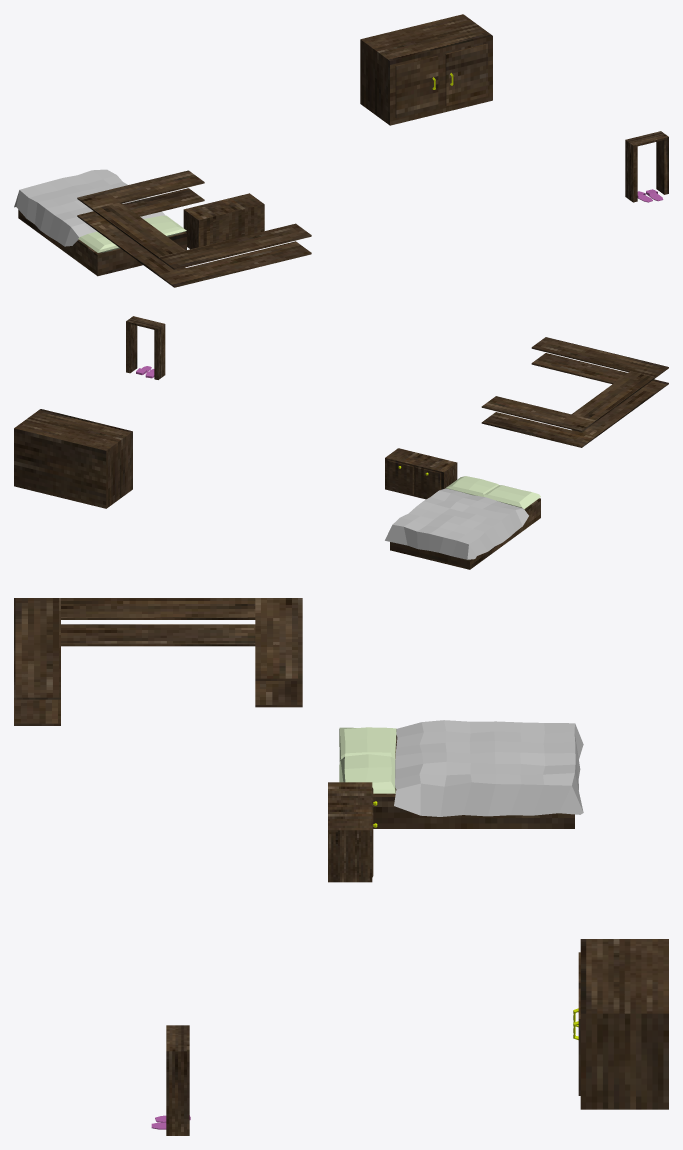
Rendered from Redoned_furniture (2).fbx.
3 renders of one model, top to bottom at view 1: azimuth 30°, elevation 25°; view 2: azimuth 150°, elevation 25°; view 3: azimuth 270°, elevation 25°, orthographic. The views are drawn at different scales.
Visible parts, largest first — view 1: Tumba, Cube.014, Plane.001, Cube, Cube.023, Cube.005, Cube.012; view 2: Tumba, Cube.014, Plane.001, Cube, Cube.023, Cube.012, Cube.005; view 3: Cube.014, Plane.001, Tumba, Cube, Cube.012, Cube.005, Cube.023.
Boxes of the visible parts, left/top/right/bottom form: Tumba: left=360, top=14, right=492, bottom=125; Cube.014: left=77, top=170, right=311, bottom=287; Plane.001: left=14, top=169, right=165, bottom=246; Cube: left=183, top=193, right=264, bottom=249; Cube.023: left=625, top=131, right=668, bottom=202; Cube.005: left=18, top=210, right=186, bottom=276; Cube.012: left=78, top=215, right=186, bottom=252; Tumba: left=14, top=409, right=132, bottom=508; Cube.014: left=481, top=337, right=668, bottom=447; Plane.001: left=385, top=488, right=528, bottom=559; Cube: left=385, top=448, right=457, bottom=499; Cube.023: left=126, top=316, right=165, bottom=379; Cube.012: left=445, top=476, right=540, bottom=509; Cube.005: left=390, top=498, right=540, bottom=569; Cube.014: left=14, top=598, right=302, bottom=725; Plane.001: left=394, top=720, right=583, bottom=816; Tumba: left=573, top=939, right=668, bottom=1109; Cube: left=328, top=782, right=377, bottom=882; Cube.012: left=339, top=727, right=396, bottom=793; Cube.005: left=373, top=735, right=574, bottom=828; Cube.023: left=151, top=1025, right=190, bottom=1135.
Size of the model in its own units: 795 by 134 by 556.
